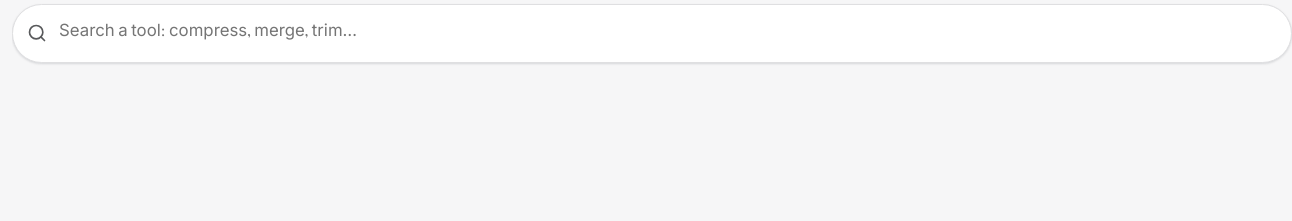
Test: ToolSearch › says so when nothing matches, and clears with the button or Escape
Type "qqqzzz" into the search field. click: (667, 33)
box: [57,7,1277,60]
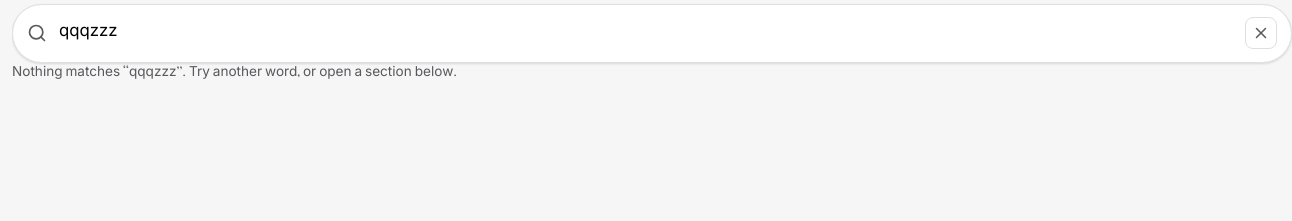
Now the message shows "qqqzzz", box [12,63,457,84]
Click the button named "clear the search". click: (1261, 33)
box: [1245,17,1277,49]
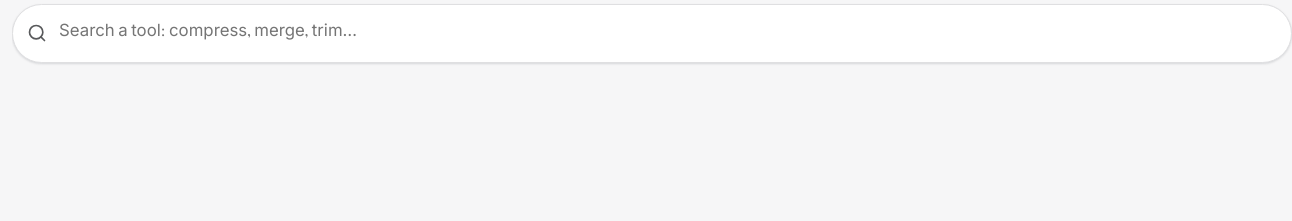
Now the search field is empty
Type "merge" into the search field. click: (667, 33)
box: [57,7,1277,60]
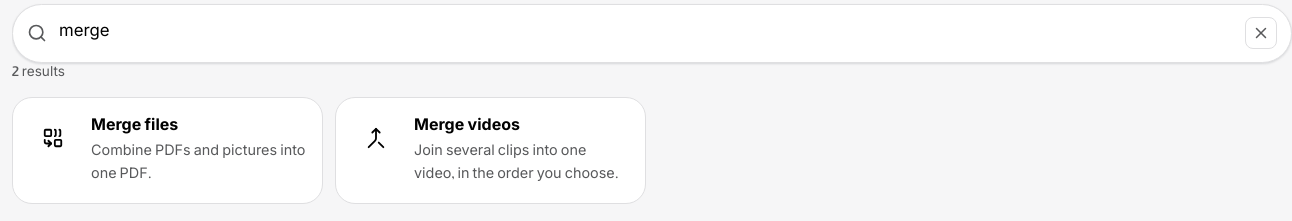
Press Escape in the search field, box [57,7,1235,60]
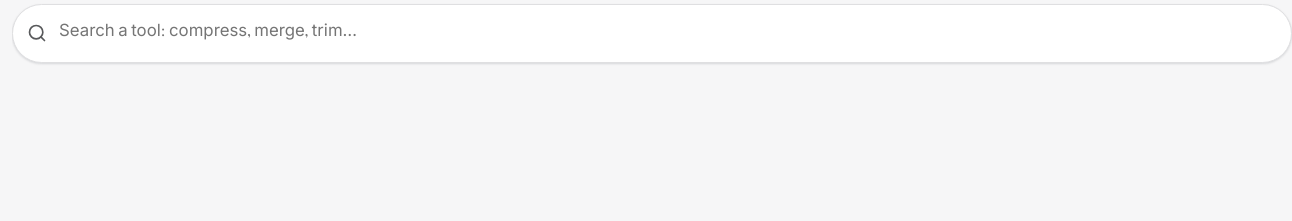
Now the search field is empty, box [57,7,1277,60]
